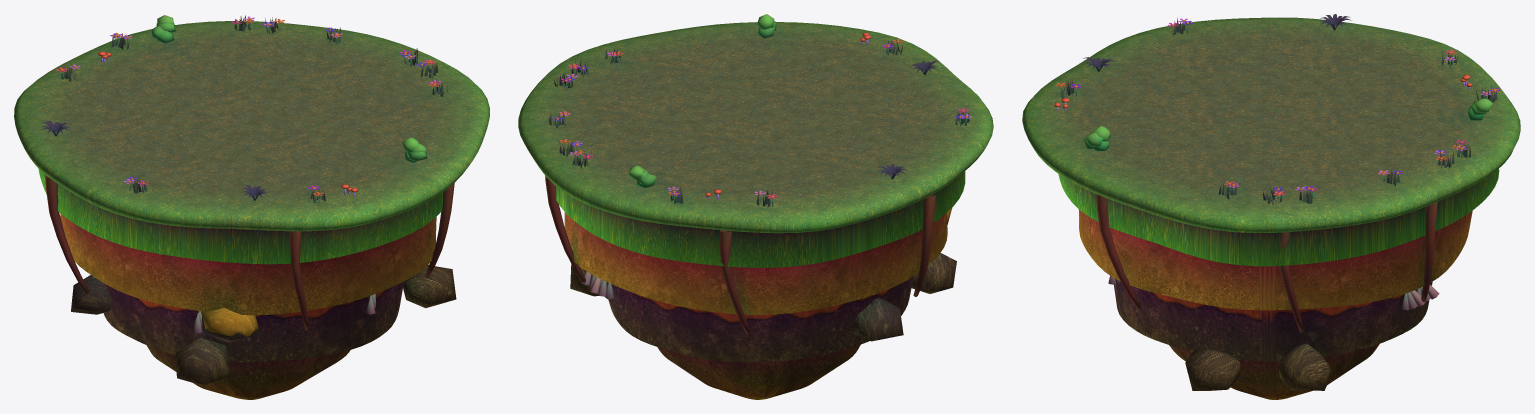
File: env_island.glb
3 views of the same model, side by side, from view 1: azimuth 30°, elevation 25°; view 2: azimuth 150°, elevation 25°; view 3: azimuth 270°, elevation 25° (orthographic). The views are drawn at different scales.
Parts seen in each view (by area): view 1: island_rock, dressing_flora, island_details; view 2: island_rock, dressing_flora, island_details; view 3: island_rock, dressing_flora, island_details.
Boxes of the visible parts, box(x1,y1,x2,y2) form: island_rock: box(14, 21, 489, 399); dressing_flora: box(41, 15, 447, 203); island_details: box(45, 175, 454, 333); island_rock: box(518, 22, 993, 399); dressing_flora: box(548, 14, 971, 206); island_details: box(545, 176, 935, 334); island_rock: box(1022, 17, 1520, 399); dressing_flora: box(1054, 14, 1500, 204); island_details: box(1078, 194, 1439, 332).
Size of the model in its own units: 15.69 by 10.86 by 16.11.
3 materials, 3 textured.
